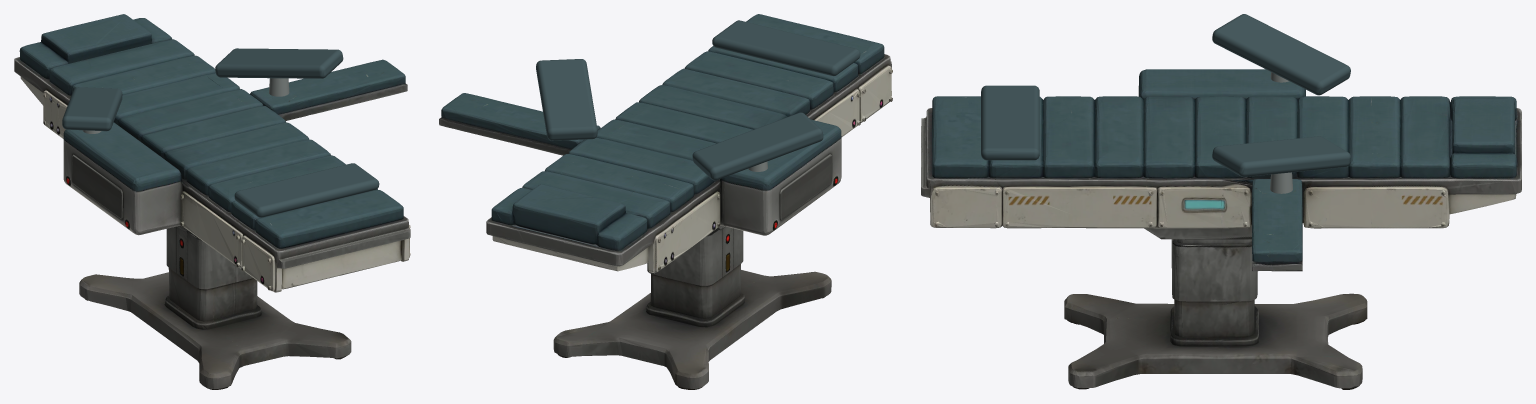
File: prop_surgery_table.glb
The picture shows the model from 3 angles, left to right: view 1: azimuth 30°, elevation 25°; view 2: azimuth 150°, elevation 25°; view 3: azimuth 270°, elevation 25°; orthographic projection. The views are drawn at different scales.
Parts seen in each view (by area): view 1: world, heel_pad, armrest_pad_1, armrest_pad_-1, armrest_post_1; view 2: world, heel_pad, armrest_pad_-1, armrest_pad_1; view 3: world, armrest_pad_-1, heel_pad, armrest_pad_1.
Part boxes in pixels (x1,y1,x2,y2): world: (14,14,410,389); heel_pad: (234,163,379,217); armrest_pad_1: (215,48,343,78); armrest_pad_-1: (62,87,122,131); armrest_post_1: (269,78,289,96); world: (439,14,892,389); heel_pad: (712,20,860,76); armrest_pad_-1: (692,112,823,180); armrest_pad_1: (536,59,597,140); world: (921,69,1521,389); armrest_pad_-1: (1212,14,1350,95); heel_pad: (981,85,1039,160); armrest_pad_1: (1212,136,1350,177).
Bounding box in the file's own units: 1.54 × 0.9907 × 2.05.
Materials: 3 (1 with a texture image).
